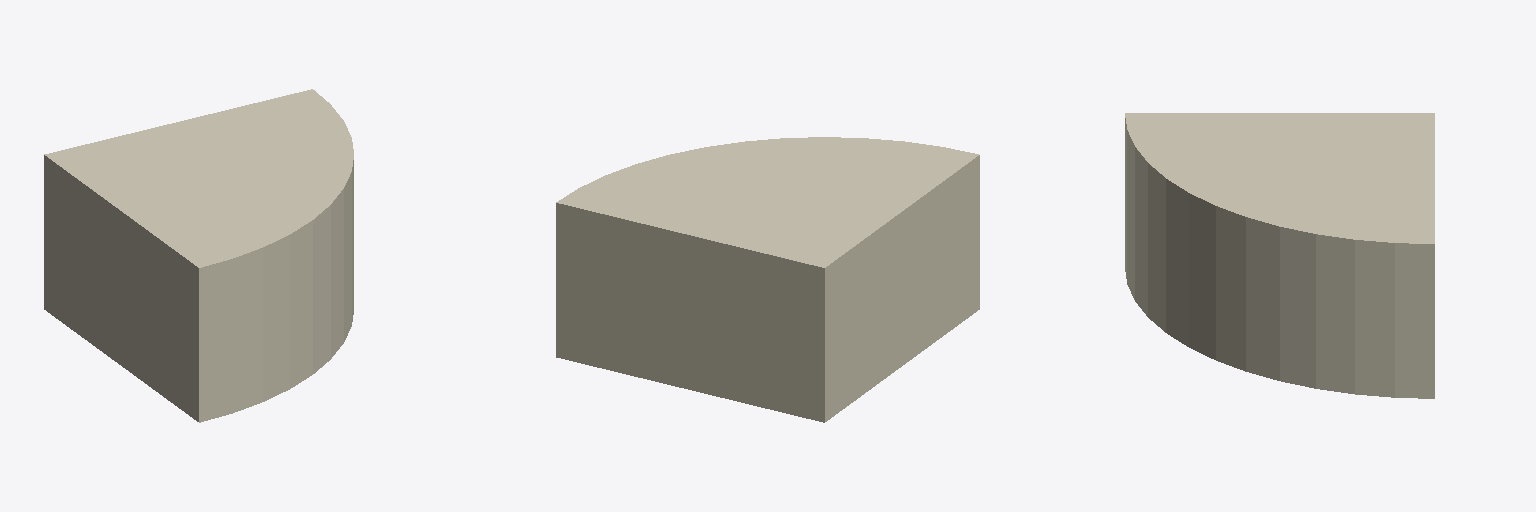
The picture shows the model from 3 angles: view 1: azimuth 30°, elevation 25°; view 2: azimuth 150°, elevation 25°; view 3: azimuth 270°, elevation 25°; orthographic projection.
Parts seen in each view (by area): view 1: roadTile_009.001; view 2: roadTile_009.001; view 3: roadTile_009.001.
Boxes of the visible parts, x1=… form: roadTile_009.001: x1=44, y1=89, x2=353, y2=422; roadTile_009.001: x1=556, y1=137, x2=979, y2=422; roadTile_009.001: x1=1125, y1=113, x2=1434, y2=398.
Bounding box in the file's own units: 3 × 1.65 × 3.